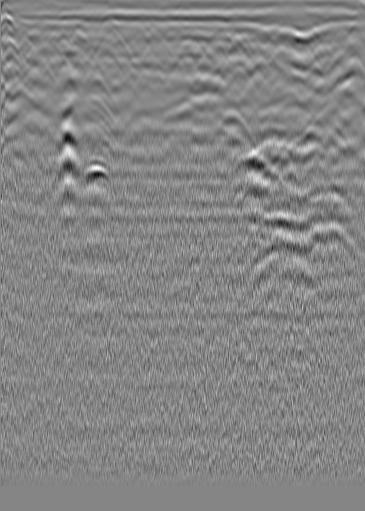가스: (78, 157, 112, 189)
상수: (306, 41, 326, 61)
오수: (35, 43, 55, 63)
우수: (153, 47, 173, 67)
